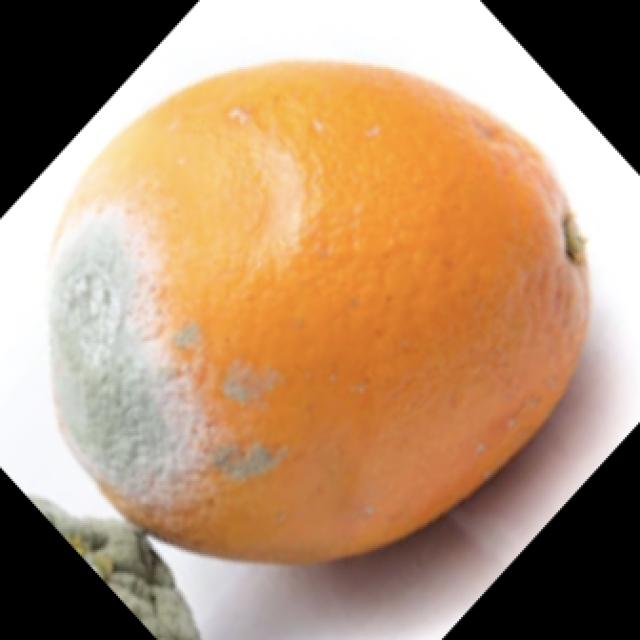sangat_busuk: (30, 496, 197, 638)
sedikit_busuk: (52, 66, 592, 549)
